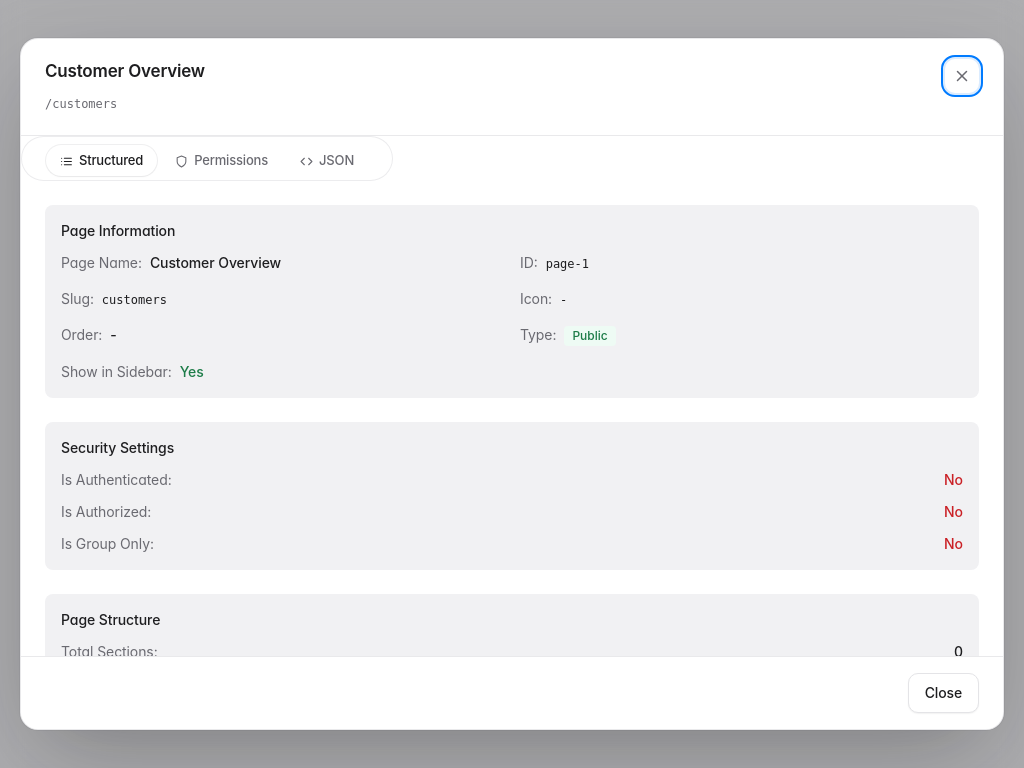
Scenario: page details workspace › reports a failed clipboard copy without claiming success
Click the tab "JSON": (327, 161) [286,145,368,176]
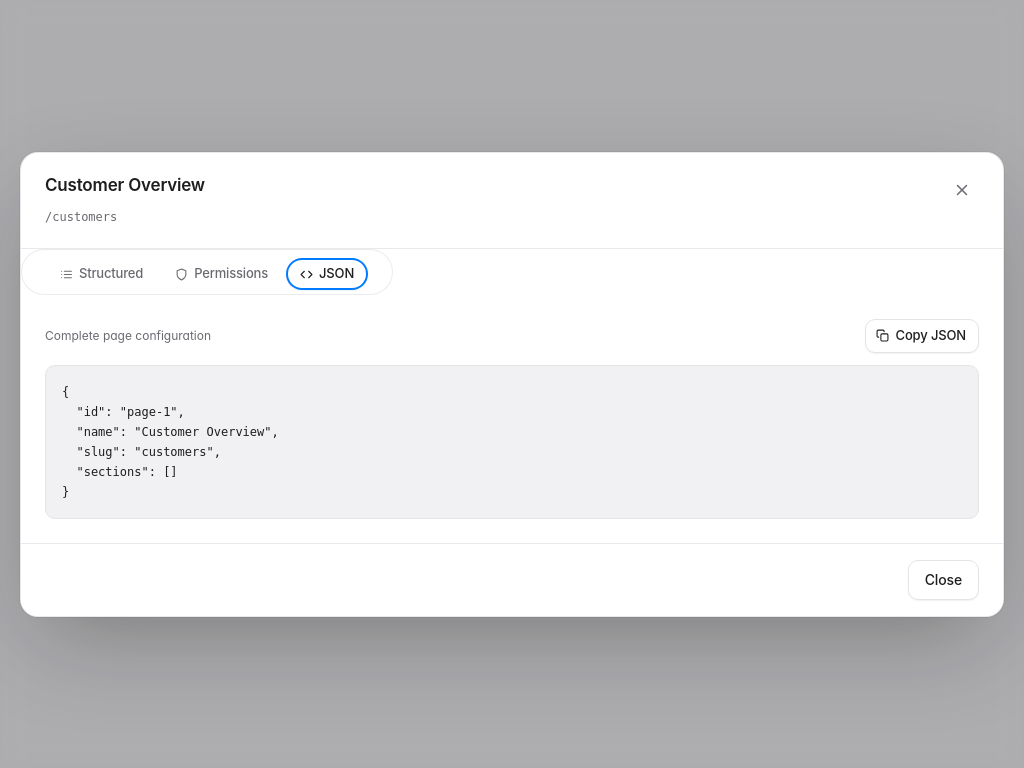
Click the button "Copy JSON": (922, 336) [866,318,979,352]
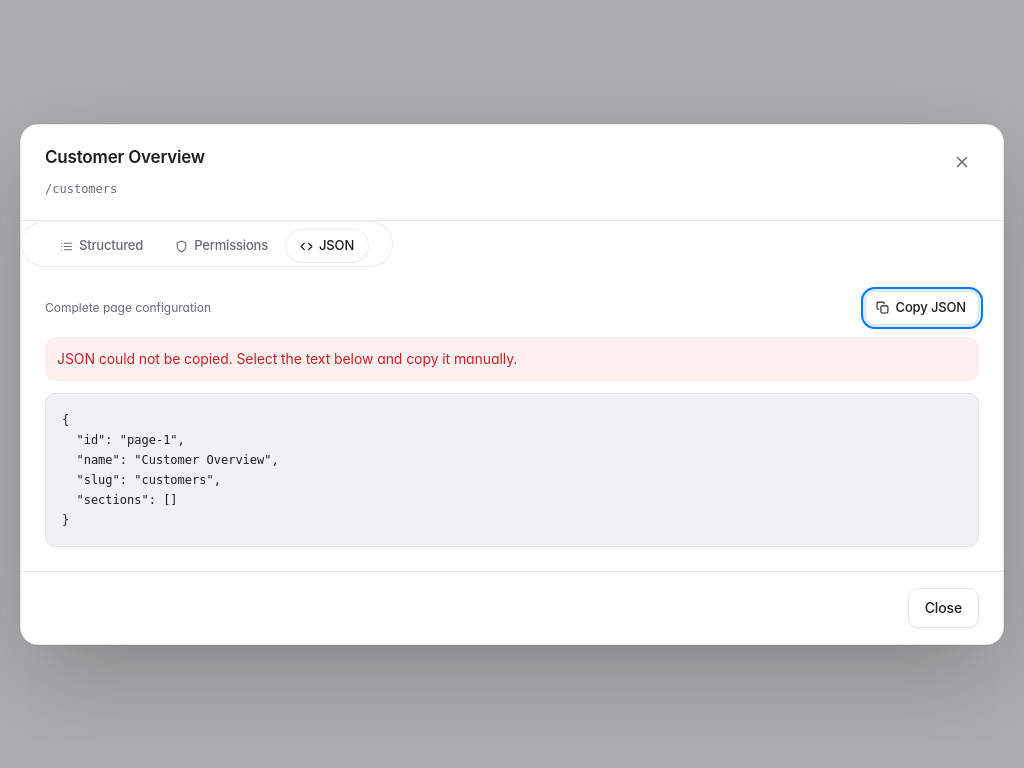
Now the text named "Page JSON" shows "\"name\": \"Customer Overview\"", box [62,412,279,526]
Now the message "JSON could not be copied. Select the text below and copy it manually." is shown, box [45,336,979,380]
